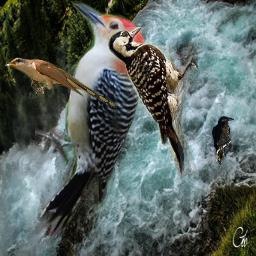Crow: (212, 116, 234, 167)
Cuckoo: (3, 57, 118, 108)
Woodpecker: (35, 1, 145, 236), (108, 27, 198, 179)
